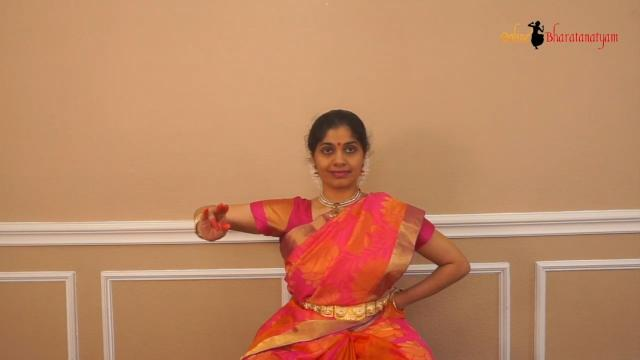kangul: (192, 203, 238, 251)
